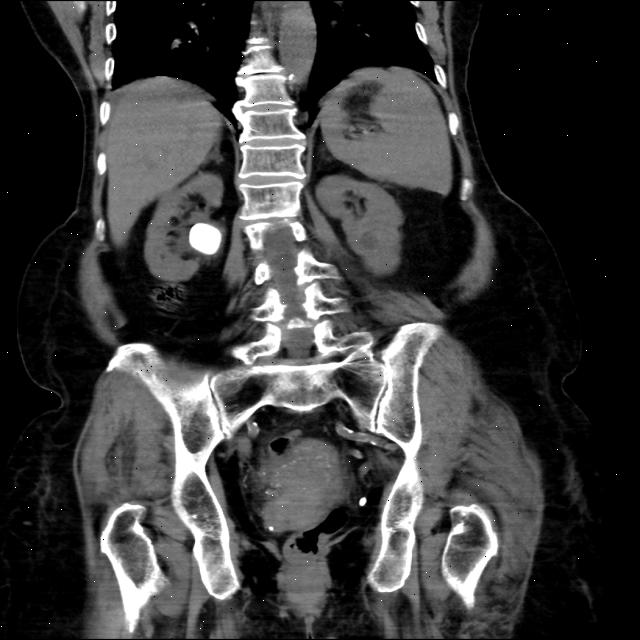kidneystone: (189, 222, 221, 255)
